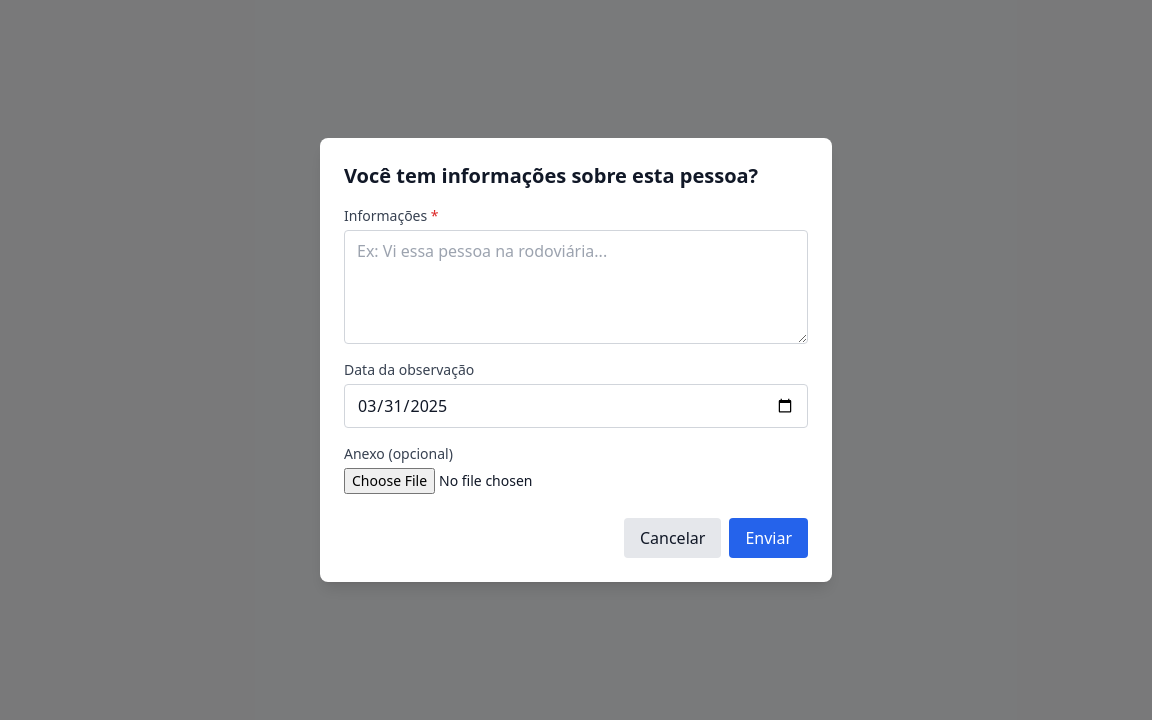
Test: InfoModal.vue › mostra erro se o campo de informação estiver vazio
The width and height of the screenshot is (1152, 720).
Click the button "Enviar" at [769, 538], box x1=729 y1=518 x2=808 y2=558
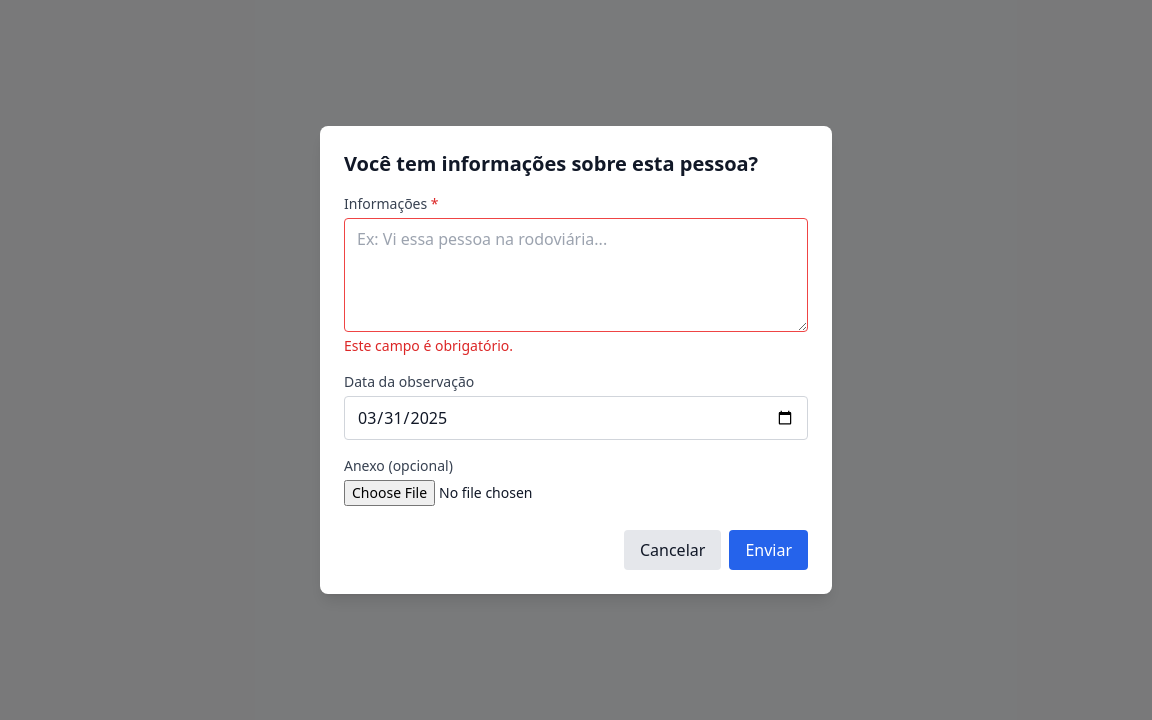
Now the text "Este campo é obrigatório." is shown, box x1=344 y1=336 x2=513 y2=355
